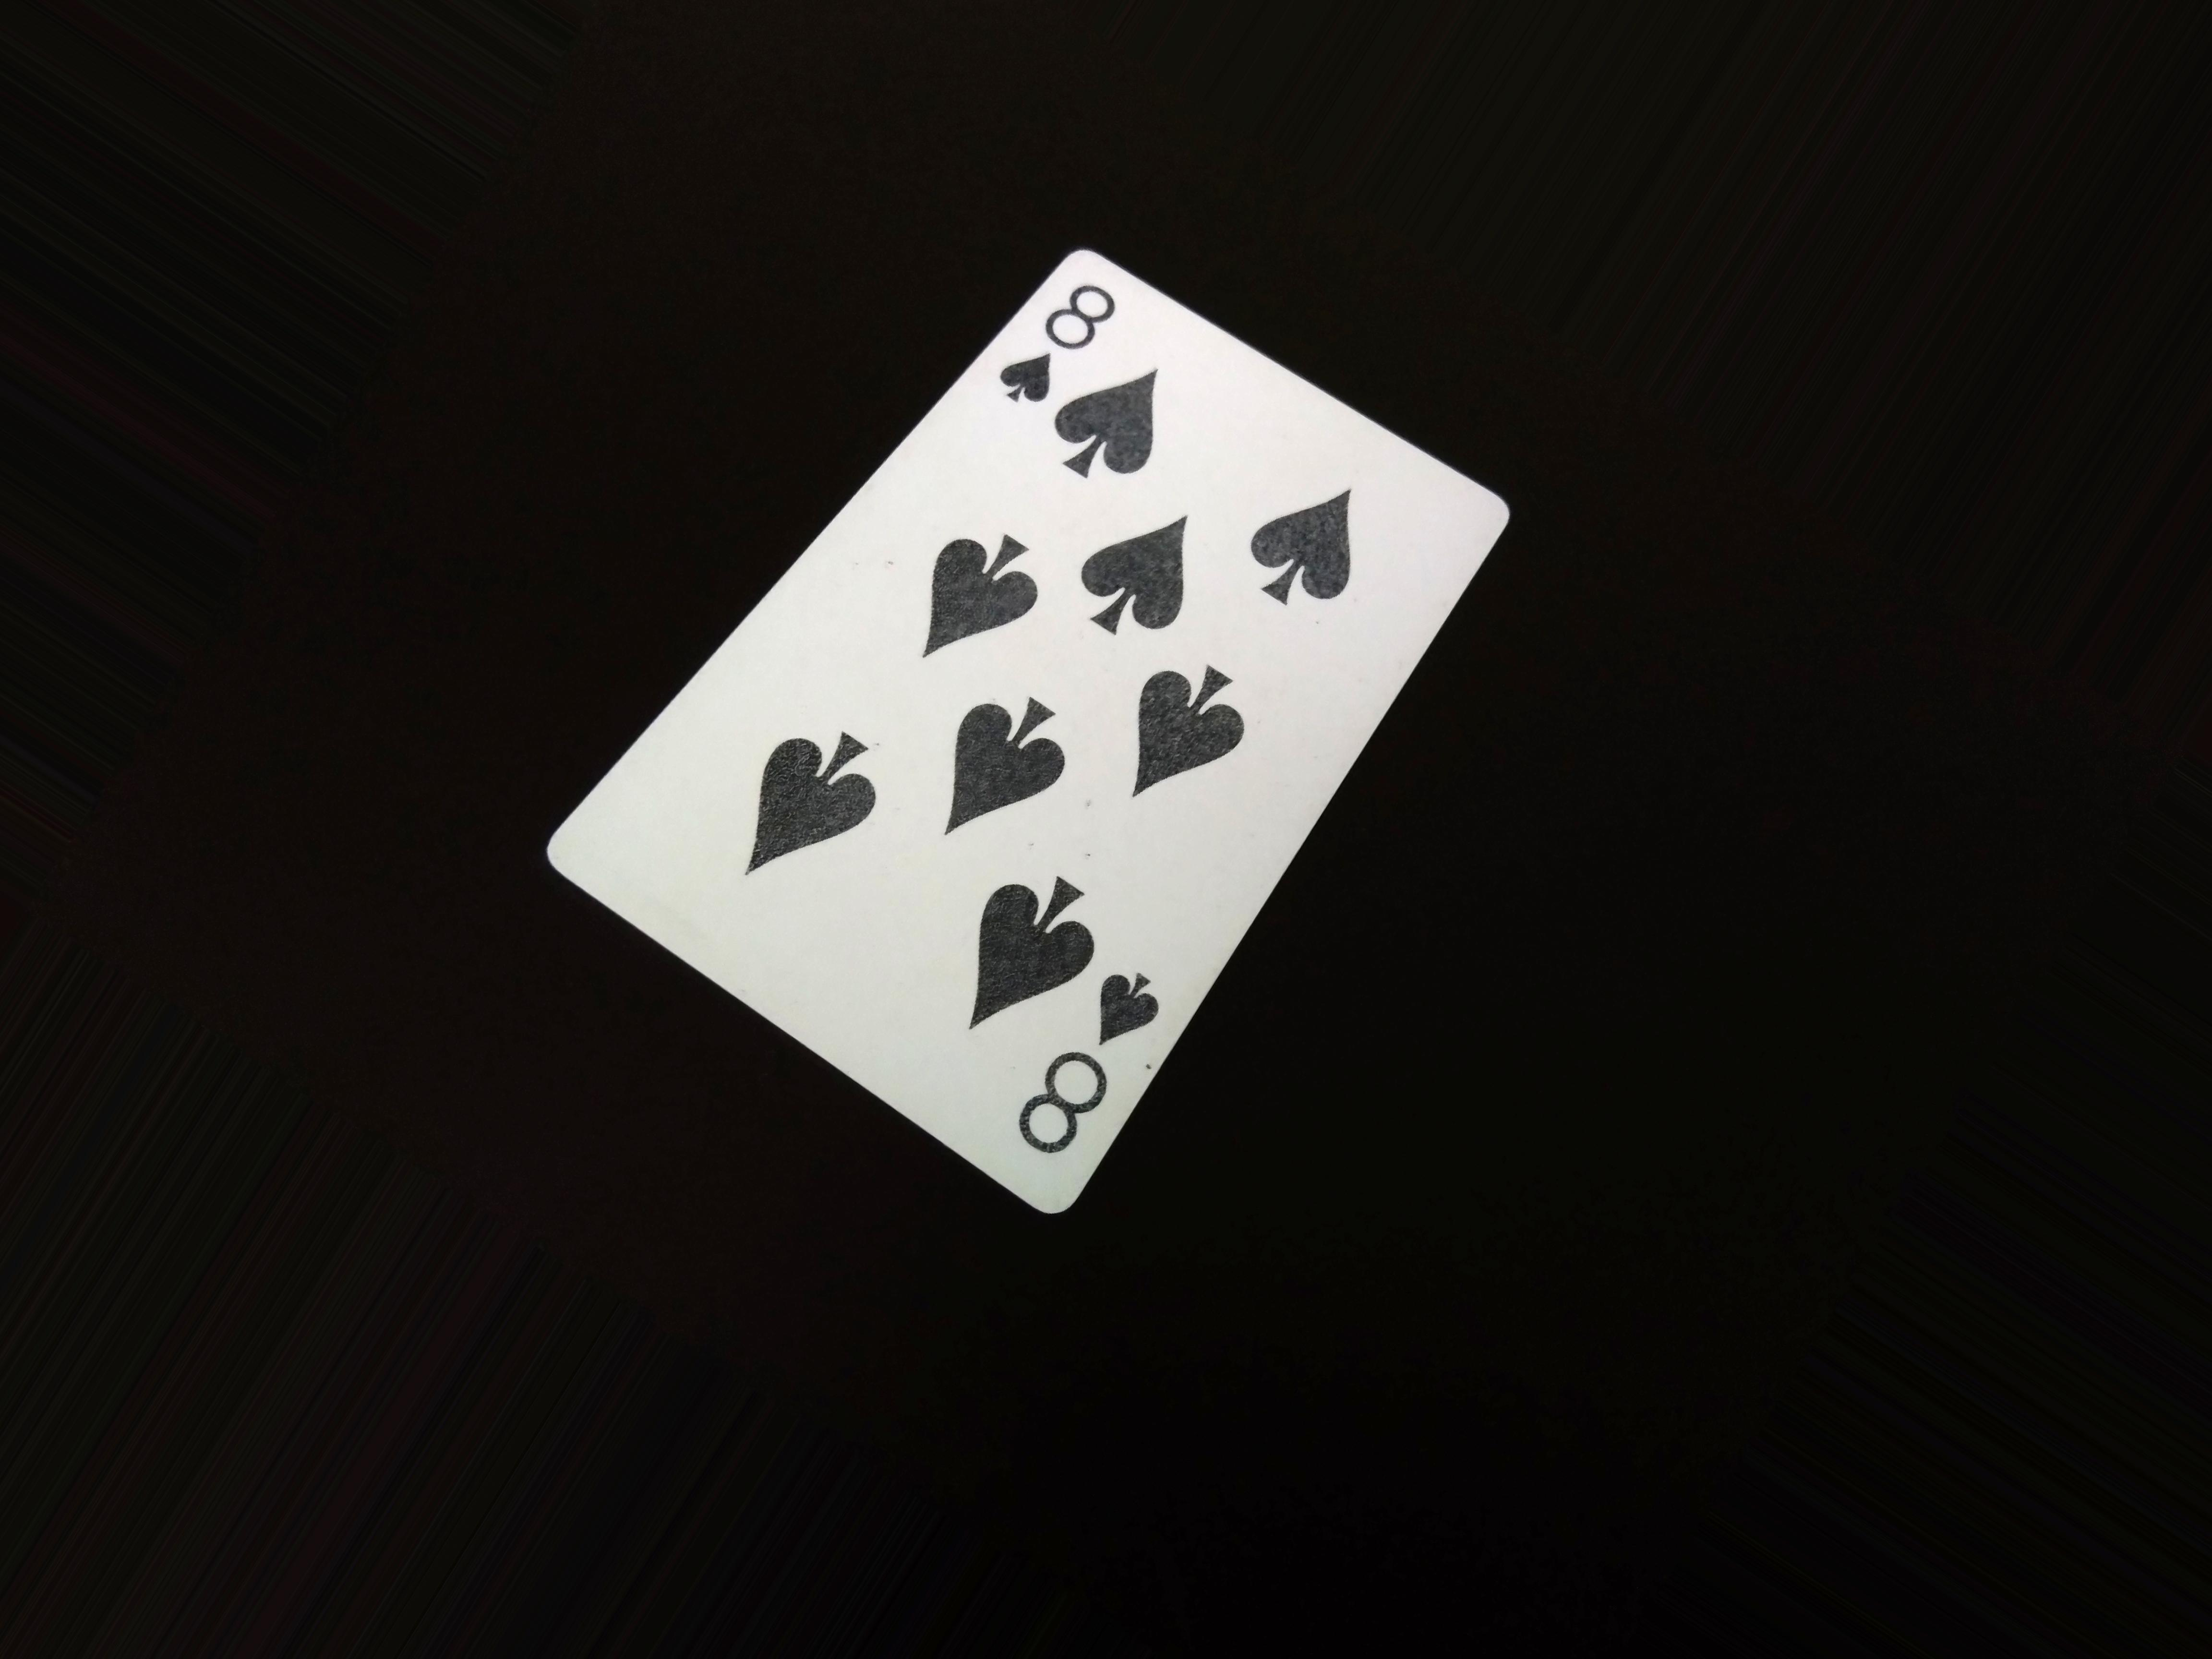8S: (996, 270, 1137, 413)
